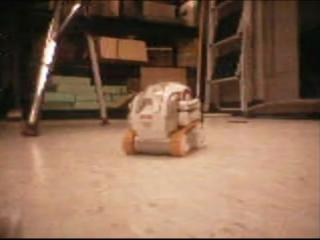cozmo: (120, 80, 207, 157)
